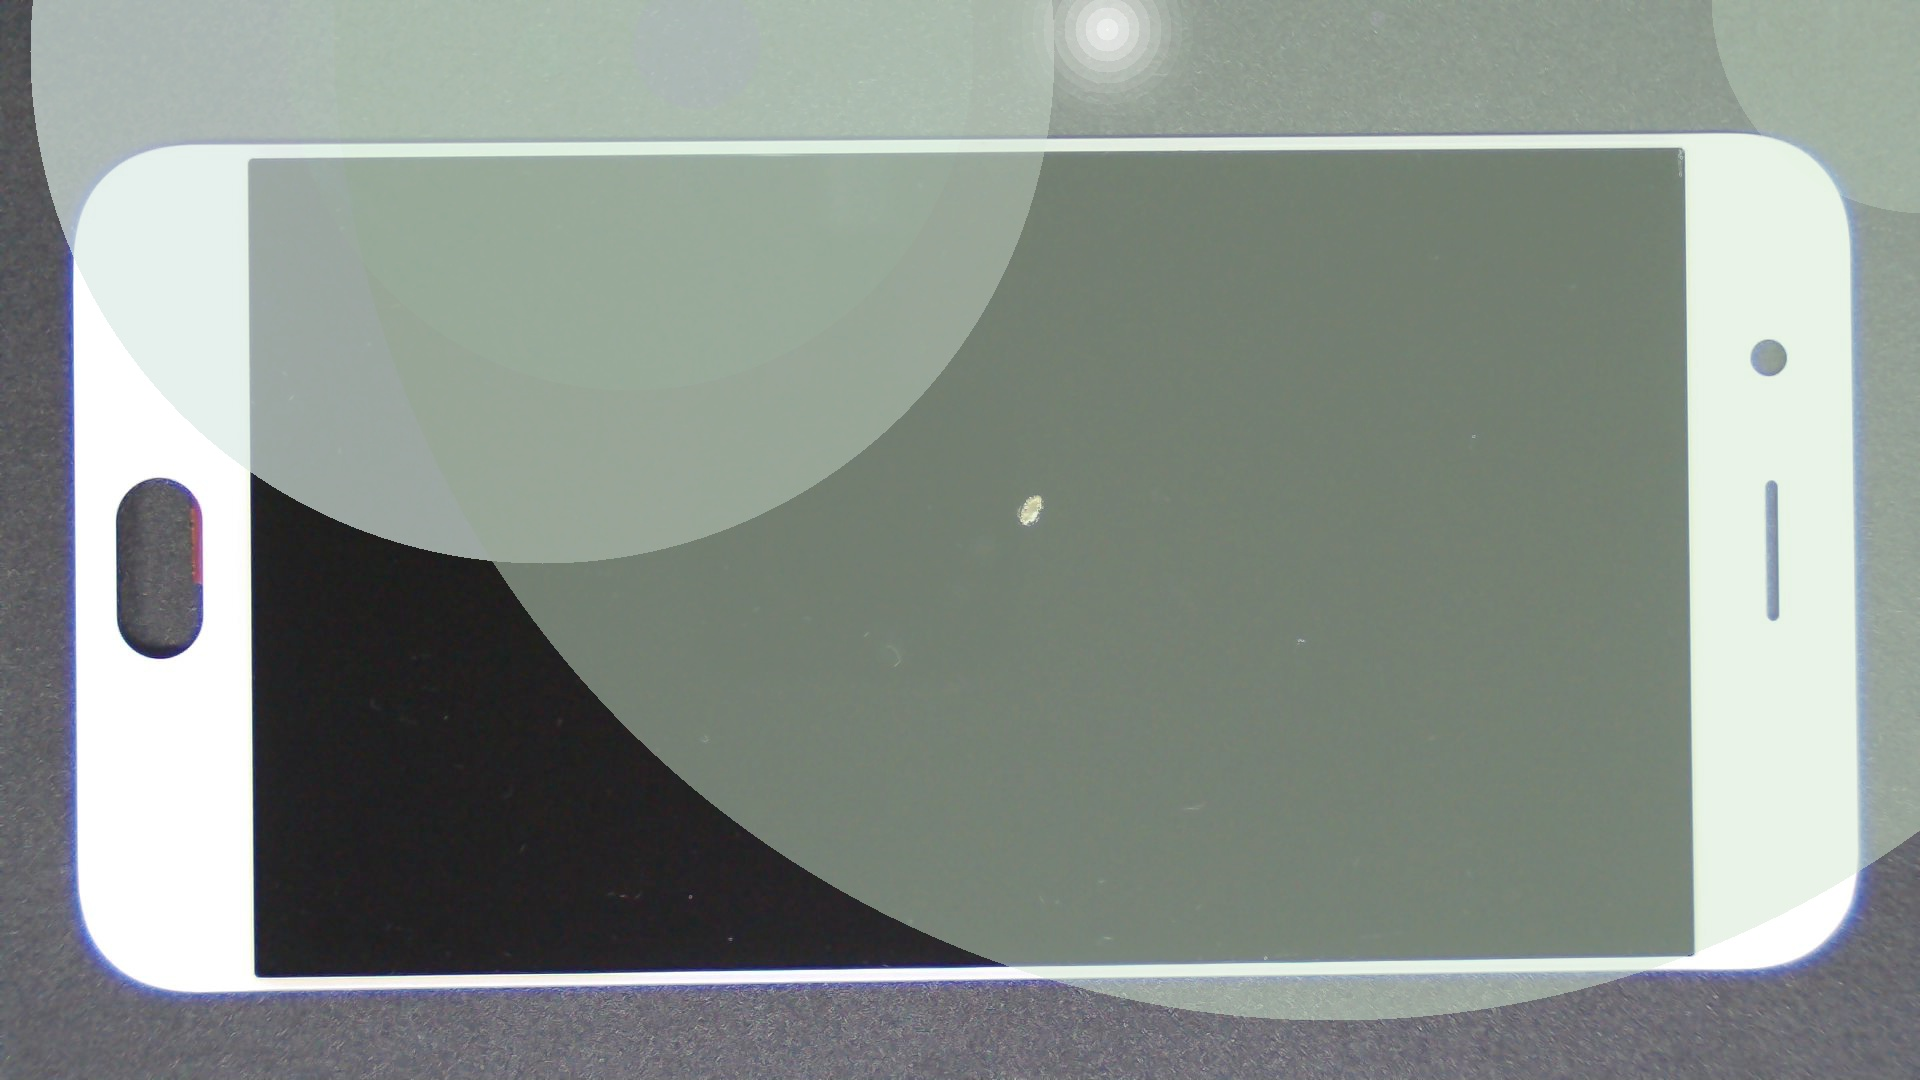oil: (517, 247, 1548, 740)
